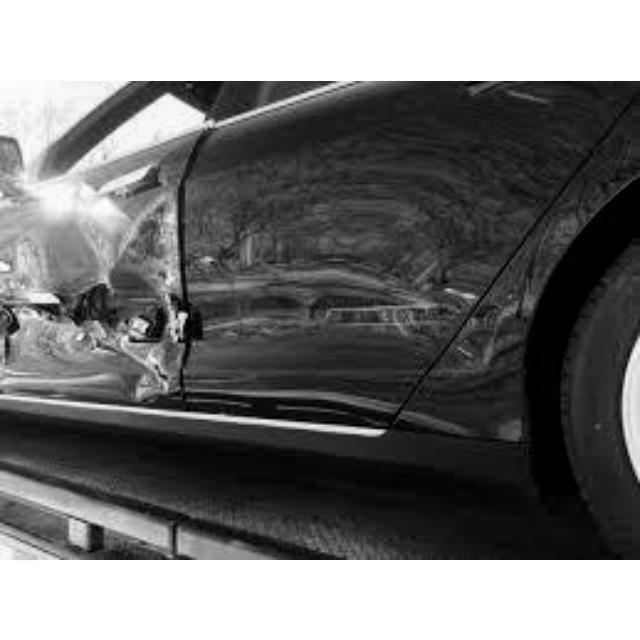doorouter-dent: (0, 172, 192, 389)
